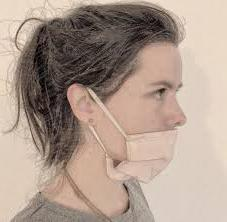mask_weared_incorrect: (110, 68, 190, 187)
